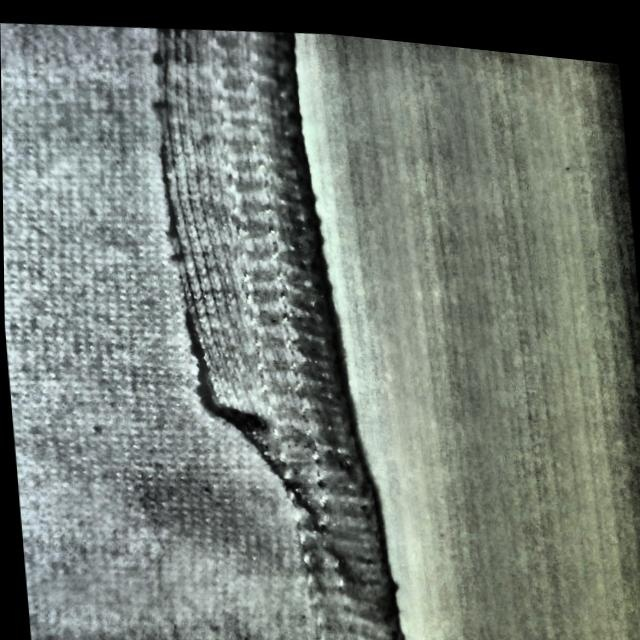seam: (92, 17, 367, 482)
